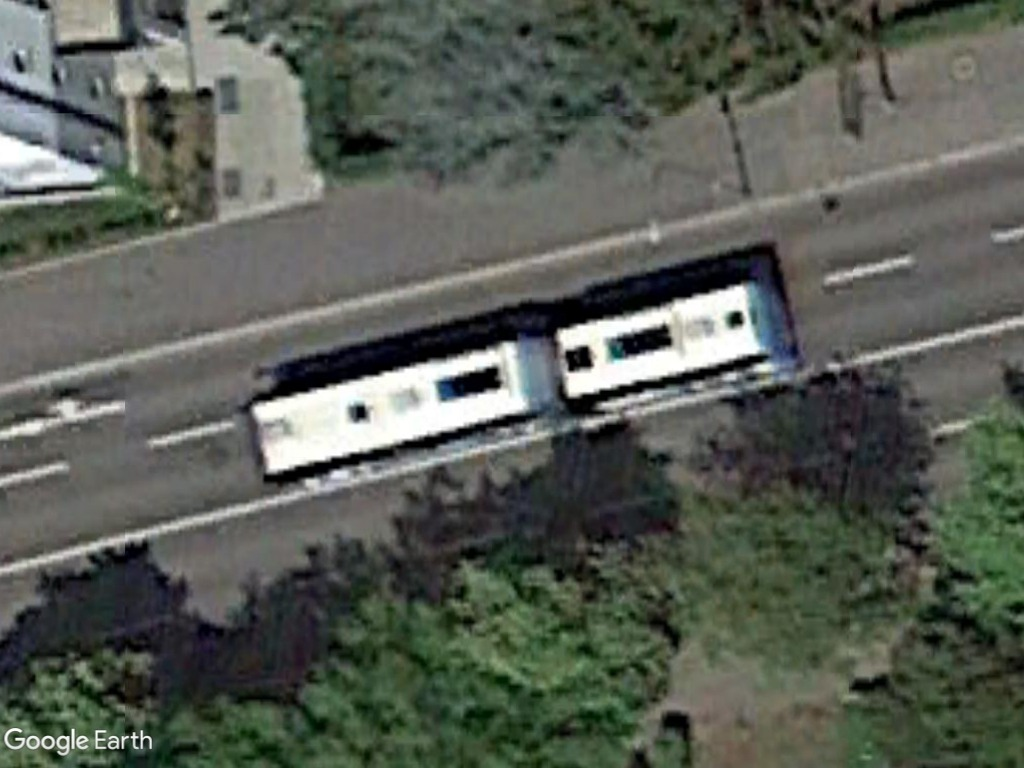bus: (240, 335, 547, 490), (548, 270, 786, 417)
